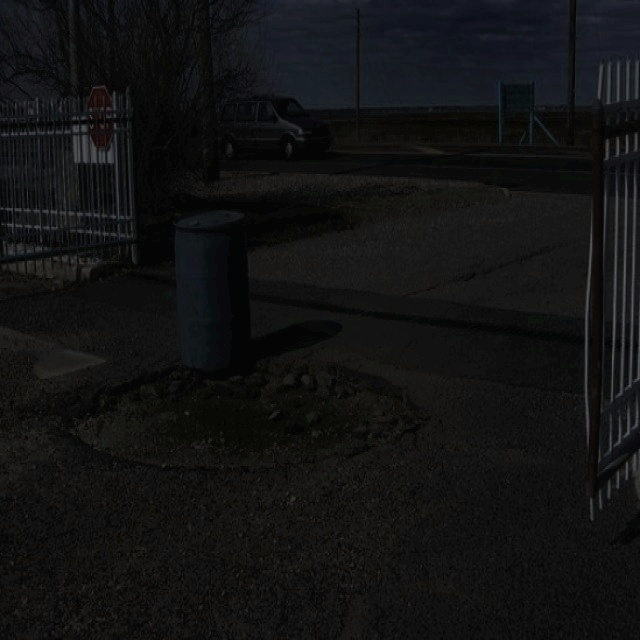Pothole: (57, 364, 426, 462)
